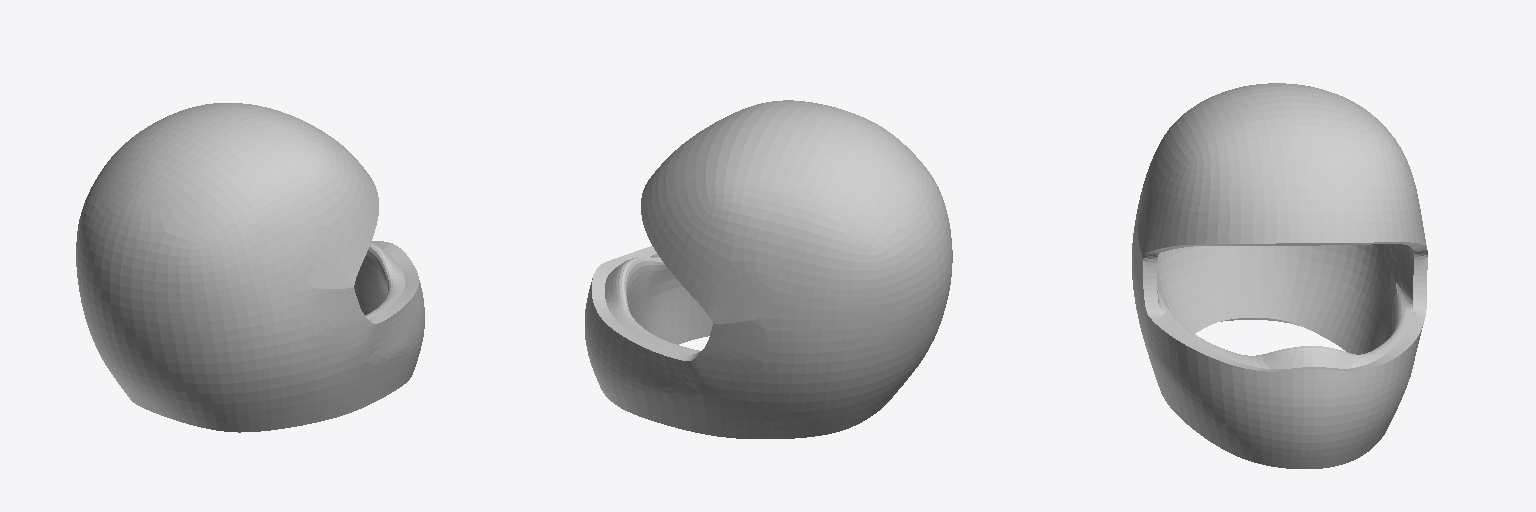
File: BikeHelmetOnly.obj
3 renders of one model, left to right at view 1: azimuth 30°, elevation 25°; view 2: azimuth 150°, elevation 25°; view 3: azimuth 270°, elevation 25°, orthographic.
Parts seen in each view (by area): view 1: 10517_Motorcycle_Helmet_v01_L3.001; view 2: 10517_Motorcycle_Helmet_v01_L3.001; view 3: 10517_Motorcycle_Helmet_v01_L3.001.
Part boxes in pixels (x1,y1,x2,y2): 10517_Motorcycle_Helmet_v01_L3.001: (76,103,424,432); 10517_Motorcycle_Helmet_v01_L3.001: (585,100,952,438); 10517_Motorcycle_Helmet_v01_L3.001: (1132,83,1427,468).
Bounding box in the file's own units: 42.91 × 35.85 × 33.6.